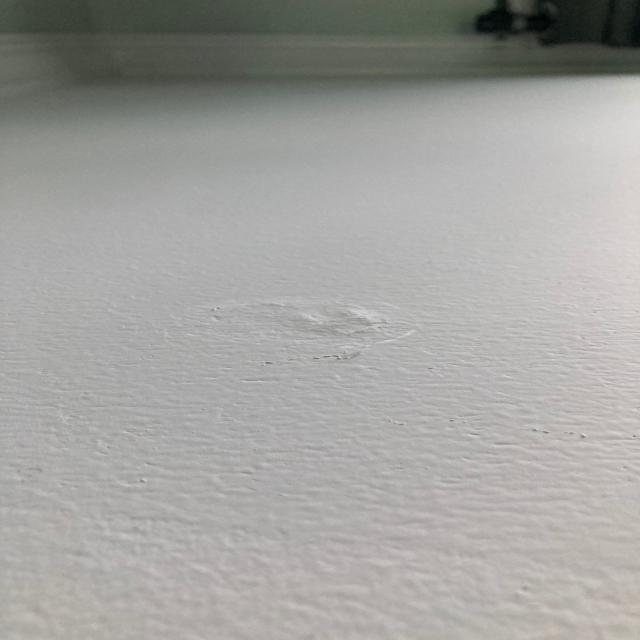leak: (256, 351, 364, 372)
